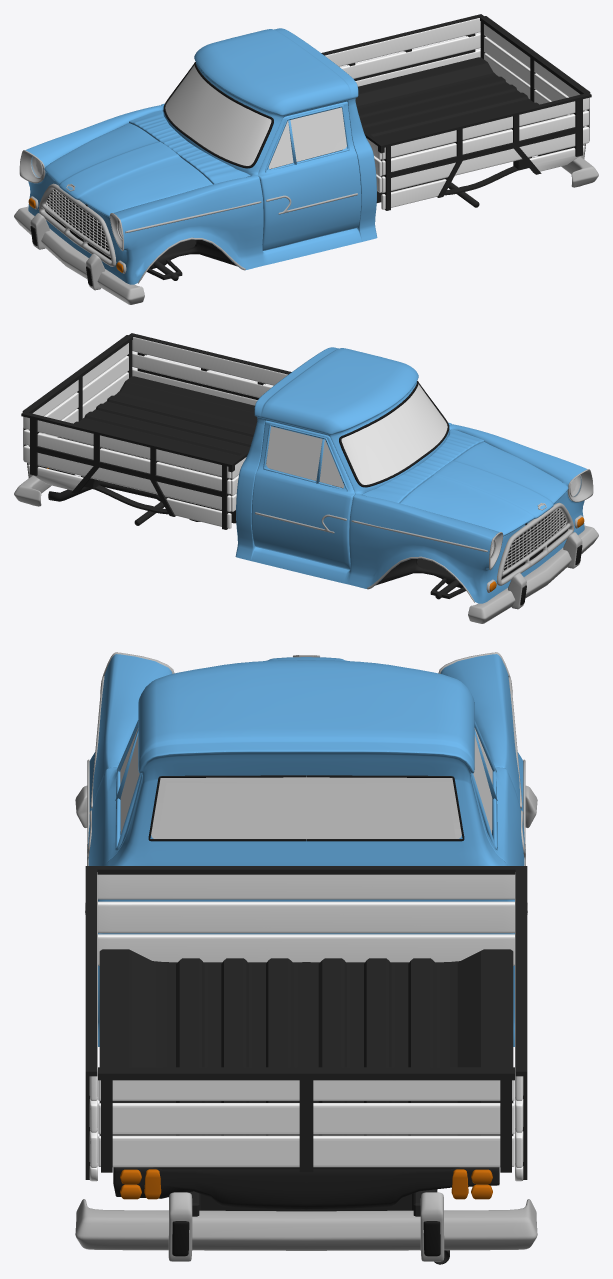
Rendered from Rastrojero05.glb.
3 renders of one model, top to bottom at view 1: azimuth 30°, elevation 25°; view 2: azimuth 150°, elevation 25°; view 3: azimuth 270°, elevation 25°, orthographic. The views are drawn at different scales.
Visible parts, largest first — view 1: Pintura, Chapa, Madera, Metal, Vidrio, Goma; view 2: Pintura, Chapa, Madera, Metal, Vidrio, Goma; view 3: Chapa, Madera, Pintura, Metal, Vidrio, Goma, LucesReversa.
Part boxes in pixels (box(x1,y1,x2,y2)): Pintura: box(25, 28, 377, 284); Chapa: box(45, 14, 591, 280); Madera: box(325, 18, 589, 209); Metal: box(14, 143, 598, 304); Vidrio: box(165, 65, 346, 168); Goma: box(30, 62, 585, 286); Pintura: box(235, 347, 587, 603); Chapa: box(21, 333, 567, 599); Madera: box(23, 337, 287, 528); Metal: box(14, 462, 598, 623); Vidrio: box(266, 384, 447, 487); Goma: box(27, 381, 582, 605); Chapa: box(85, 831, 527, 1264); Madera: box(89, 872, 523, 1181); Pintura: box(87, 654, 525, 1046); Metal: box(75, 652, 537, 1261); Vidrio: box(120, 728, 492, 839); Goma: box(148, 775, 464, 1256); LucesReversa: box(144, 1169, 468, 1199).
Size of the model in its own units: 4.64 by 1.44 by 1.88.
